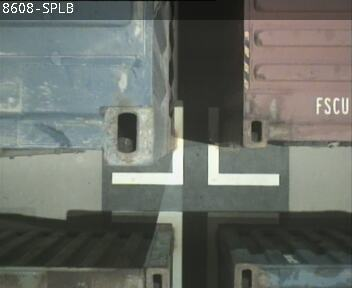groundmarker_1: (112, 106, 280, 187), (110, 209, 276, 286)
